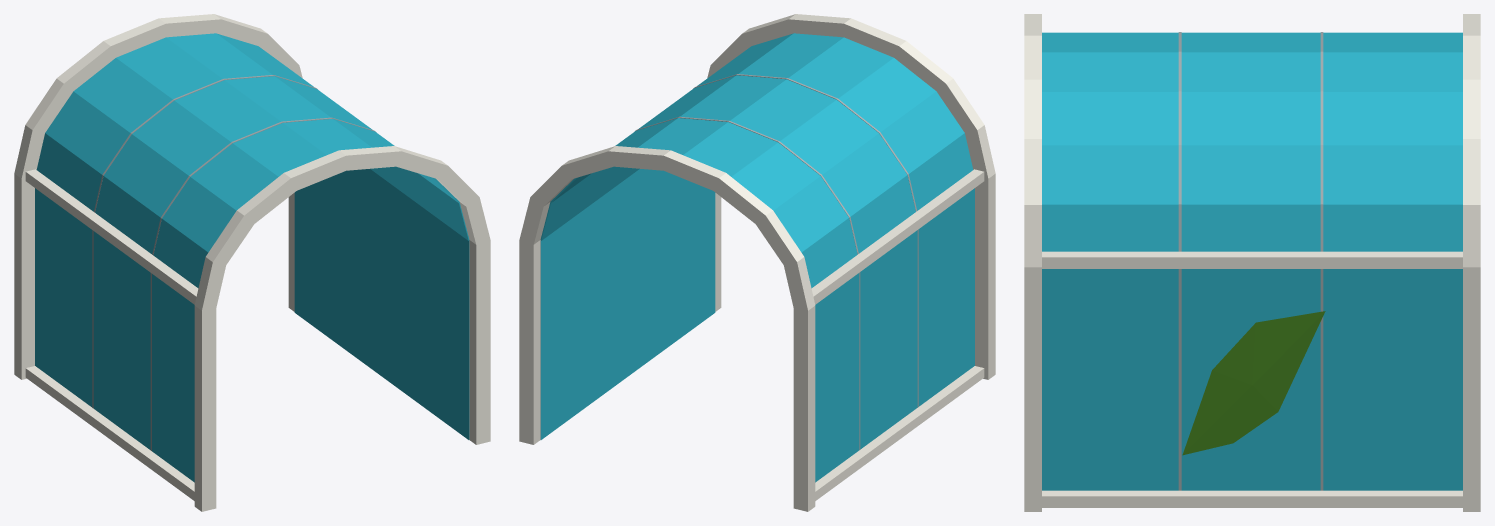
Rendered from glass_canopy.glb.
3 renders of one model, left to right at view 1: azimuth 30°, elevation 25°; view 2: azimuth 150°, elevation 25°; view 3: azimuth 270°, elevation 25°, orthographic. The views are drawn at different scales.
Parts seen in each view (by area): view 1: Aero_glass_canopy; view 2: Aero_glass_canopy; view 3: Aero_glass_canopy.
Part boxes in pixels (<box>): Aero_glass_canopy: <box>14,14,490,511</box>; Aero_glass_canopy: <box>519,14,995,511</box>; Aero_glass_canopy: <box>1024,14,1480,511</box>.
Size of the model in its own units: 3.2 by 3.4 by 3.6.
4 materials, 4 textured.
